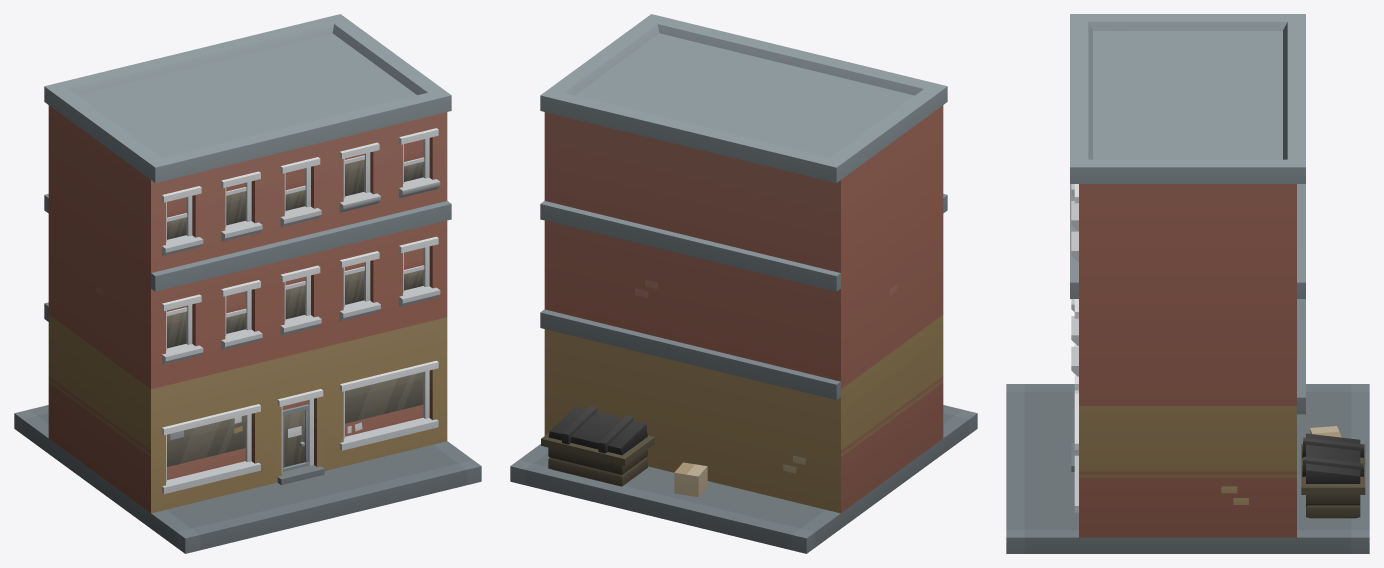
Rendered from cairo-walkup-a.glb.
3 renders of one model, left to right at view 1: azimuth 30°, elevation 25°; view 2: azimuth 150°, elevation 25°; view 3: azimuth 270°, elevation 25°, orthographic. The views are drawn at different scales.
Visible parts, largest first — view 1: building_E; view 2: building_E; view 3: building_E.
Part boxes in pixels (x1,y1,x2,y2): building_E: (14,14,481,553); building_E: (510,14,977,553); building_E: (1006,14,1369,553).
Size of the model in its own units: 2.01 by 2.35 by 2.
2 materials, 2 textured.
